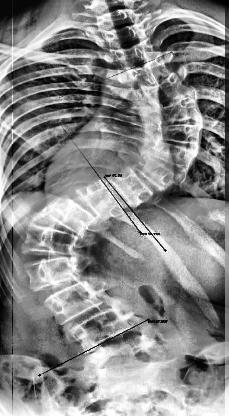Vertebrae: (70, 306, 134, 356), (42, 280, 108, 326), (73, 176, 133, 226), (126, 70, 194, 112), (128, 147, 186, 196), (102, 165, 160, 211), (23, 252, 85, 294), (21, 220, 84, 258), (134, 95, 202, 130), (43, 194, 97, 236), (112, 53, 172, 89), (142, 135, 198, 171), (143, 118, 203, 148), (106, 40, 156, 72), (100, 21, 150, 50)
